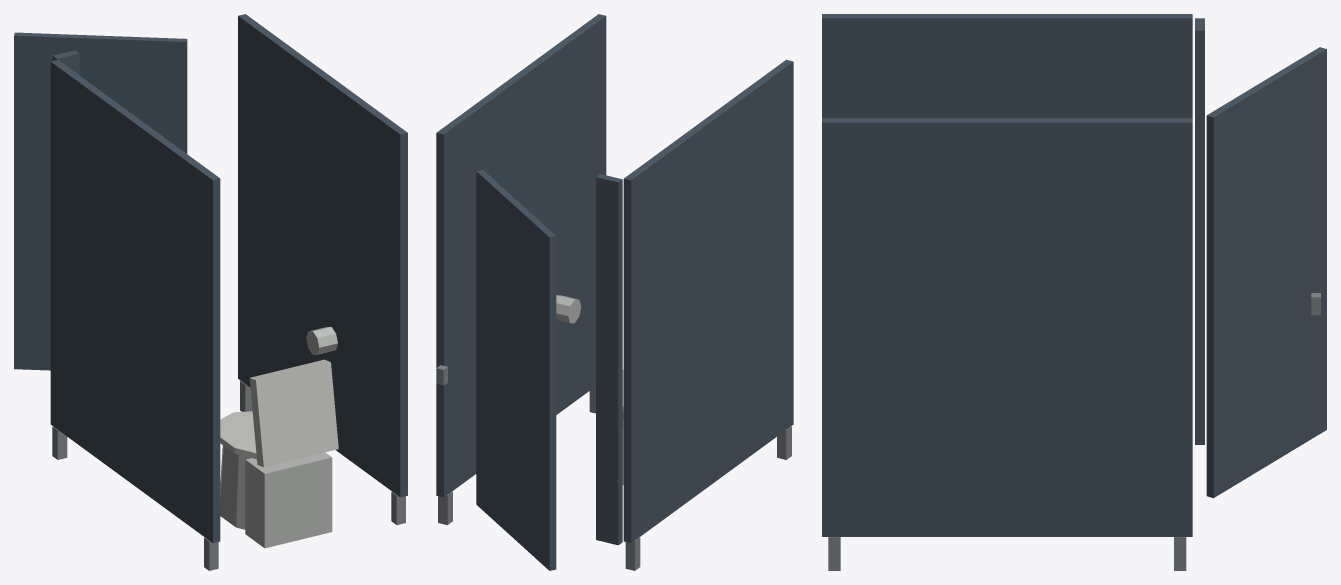
The model's file is toilet_stall.glb.
The picture shows the model from 3 angles, left to right: view 1: azimuth 30°, elevation 25°; view 2: azimuth 150°, elevation 25°; view 3: azimuth 270°, elevation 25°; orthographic projection. The views are drawn at different scales.
Visible parts, largest first — view 1: toilet_stall; view 2: toilet_stall; view 3: toilet_stall.
Boxes of the visible parts, left/top/right/bottom form: toilet_stall: left=14, top=14, right=407, bottom=570; toilet_stall: left=436, top=14, right=793, bottom=570; toilet_stall: left=822, top=14, right=1326, bottom=570.
Size of the model in its own units: 1.05 by 2 by 2.04.
